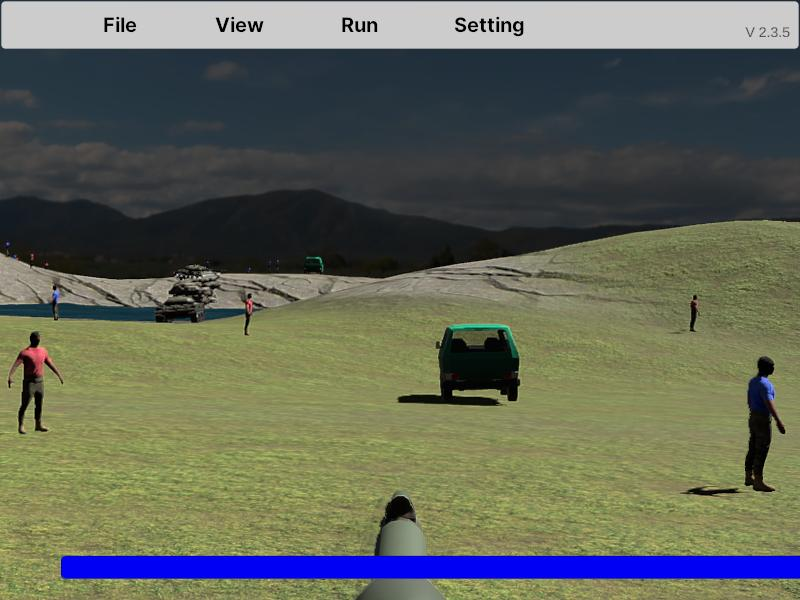Human: (8, 331, 64, 434), (745, 356, 786, 494)
car: (438, 323, 521, 403)
